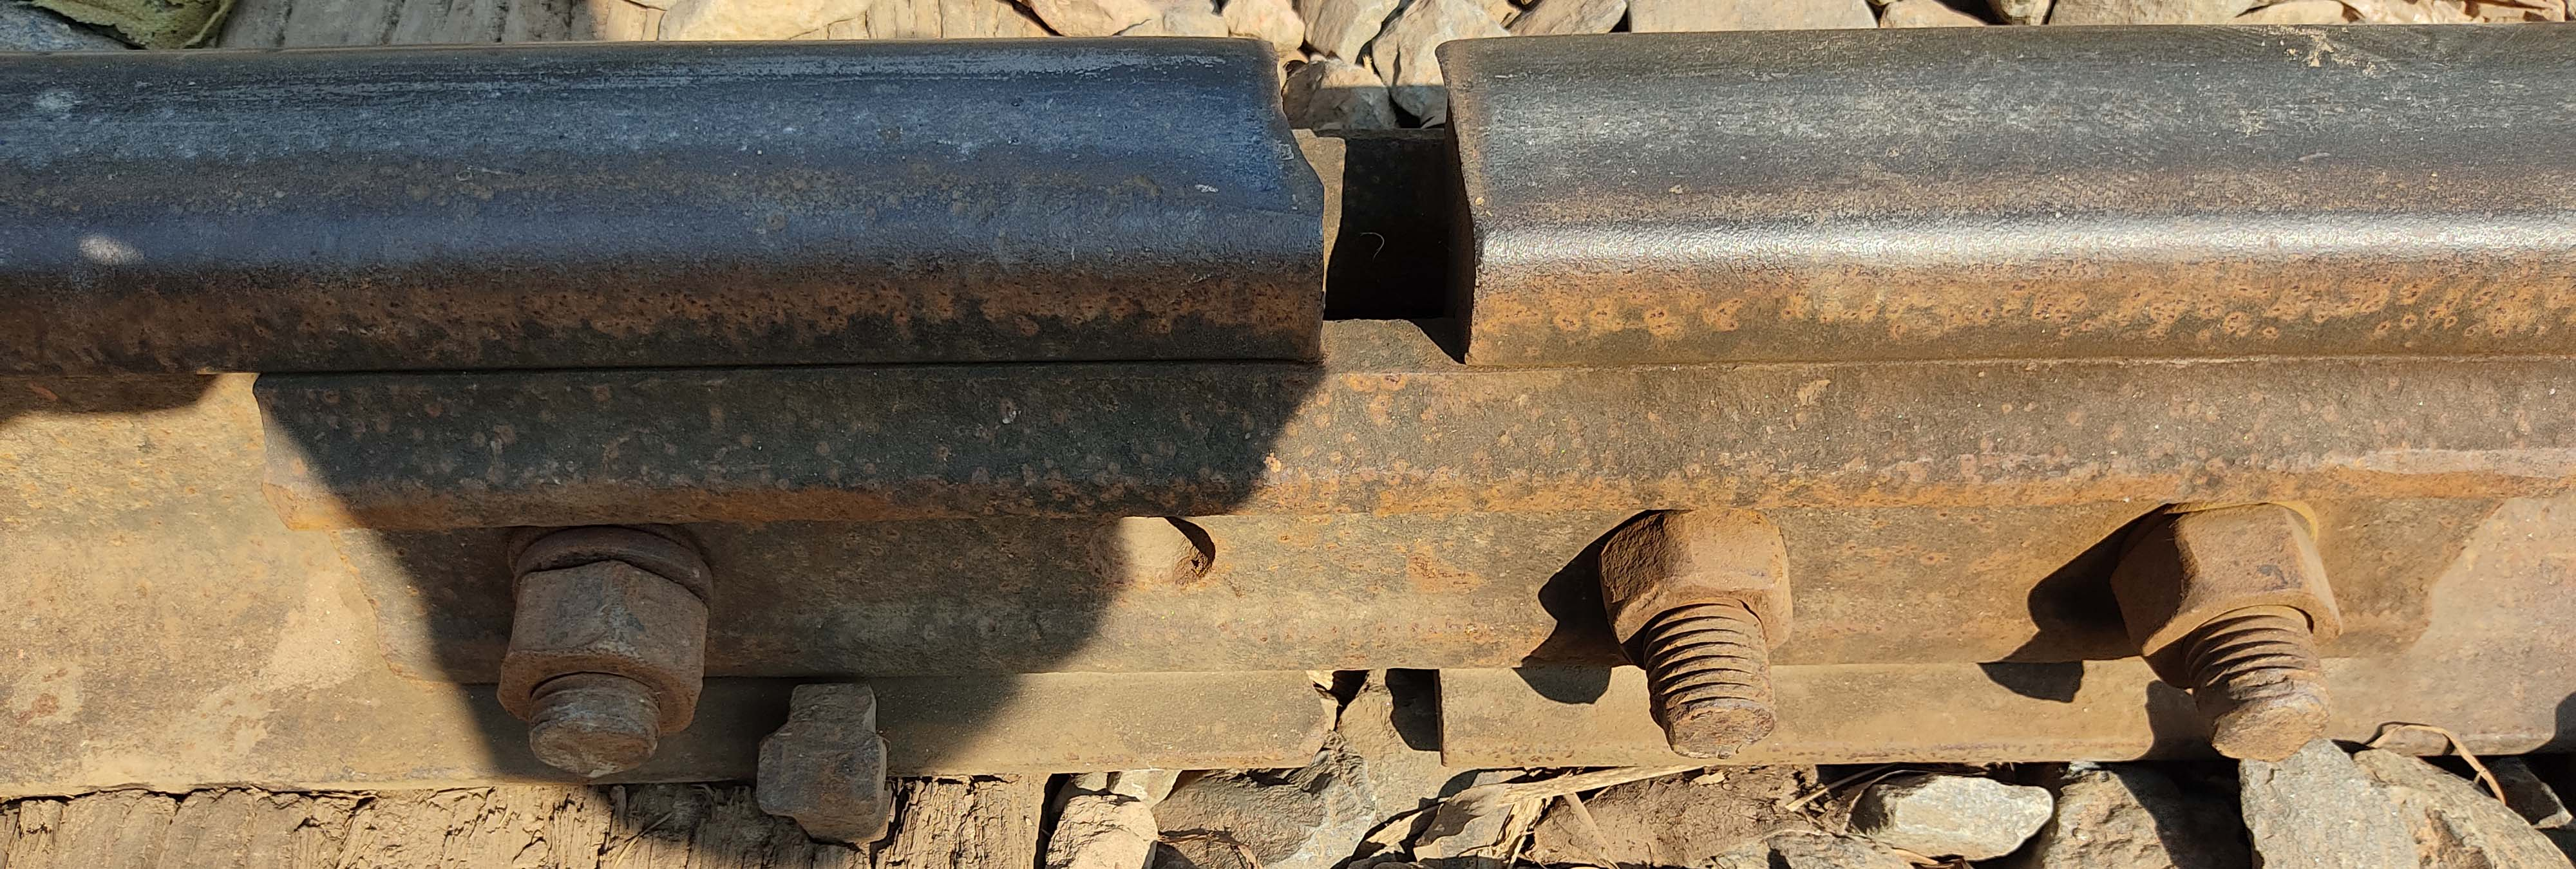error2: (1216, 15, 1564, 409)
